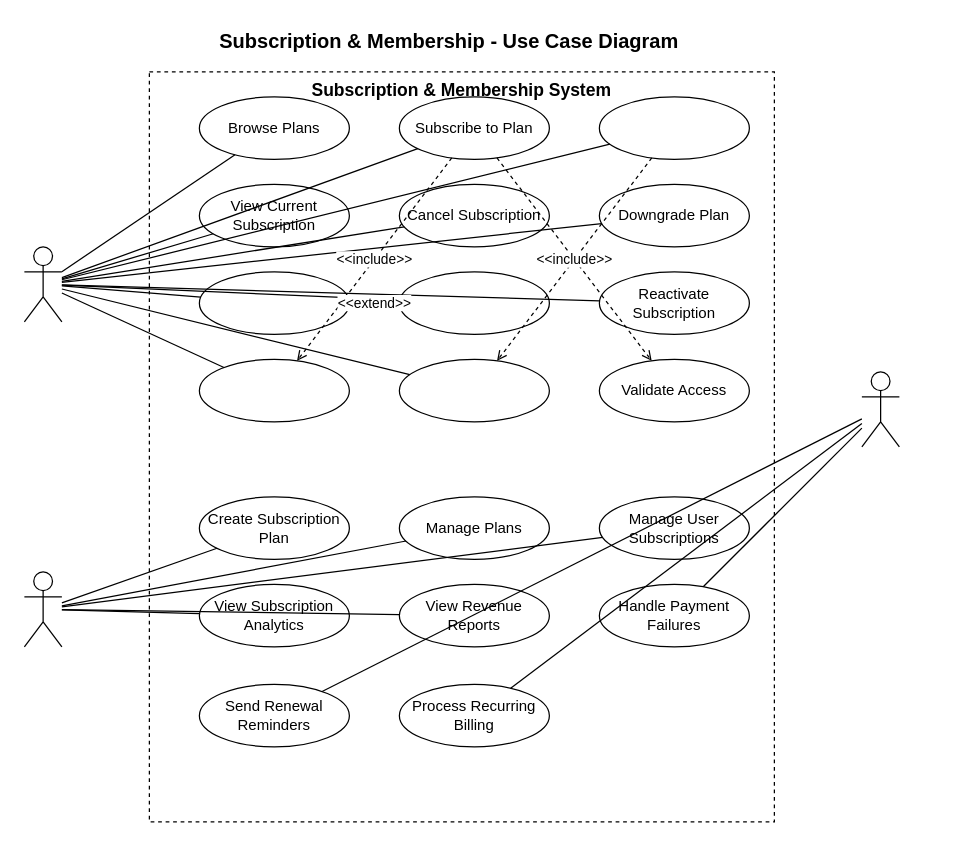
The diagram is 959 pixels wide and 844 high, and some of its shapes have lost their labels. The box of each missing label's shape, as (x1, y1, x2, y2) in pixels:
Admin: (23, 571, 62, 647)
Download Invoice: (398, 271, 549, 334)
Manage Payment Methods: (198, 358, 349, 422)
Payment System: (861, 371, 899, 447)
Update Payment Method: (398, 358, 549, 422)
Upgrade Plan: (598, 96, 749, 159)
User: (23, 246, 62, 322)
View Billing History: (198, 271, 349, 334)
